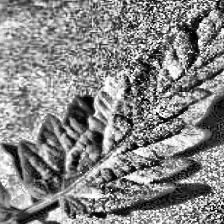leaf mold: (19, 0, 224, 215)
